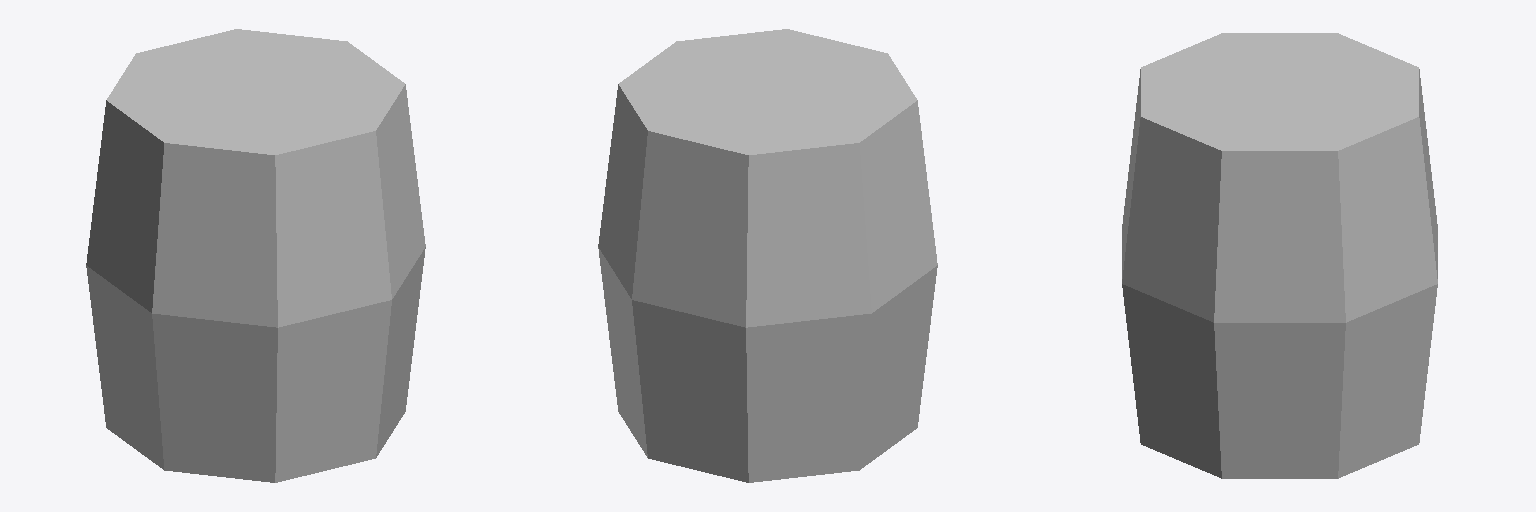
Rendered from bochka_003.obj.
The picture shows the model from 3 angles: view 1: azimuth 30°, elevation 25°; view 2: azimuth 150°, elevation 25°; view 3: azimuth 270°, elevation 25°; orthographic projection.
Visible parts, largest first — view 1: Бочка.003; view 2: Бочка.003; view 3: Бочка.003.
Boxes of the visible parts, x1=… form: Бочка.003: x1=86, y1=29, x2=425, y2=482; Бочка.003: x1=598, y1=29, x2=937, y2=482; Бочка.003: x1=1122, y1=33, x2=1437, y2=478.
Size of the model in its own units: 0.6974 by 0.7979 by 0.6974.